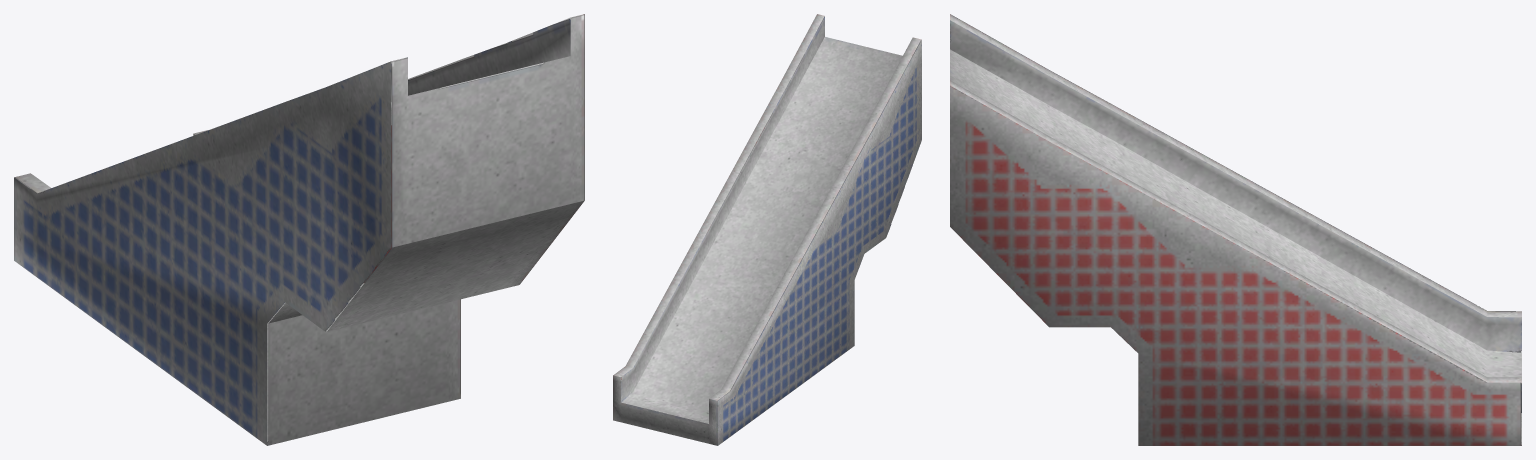
The model's file is DragonSlideLeft.fbx.
The picture shows the model from 3 angles, left to right: view 1: azimuth 30°, elevation 25°; view 2: azimuth 150°, elevation 25°; view 3: azimuth 270°, elevation 25°; orthographic projection. The views are drawn at different scales.
Visible parts, largest first — view 1: slide_01; view 2: slide_01; view 3: slide_01.
Boxes of the visible parts, x1=… form: slide_01: x1=14, y1=14, x2=584, y2=445; slide_01: x1=613, y1=14, x2=921, y2=445; slide_01: x1=950, y1=14, x2=1521, y2=445.
Size of the model in its own units: 354 by 830 by 1193.
